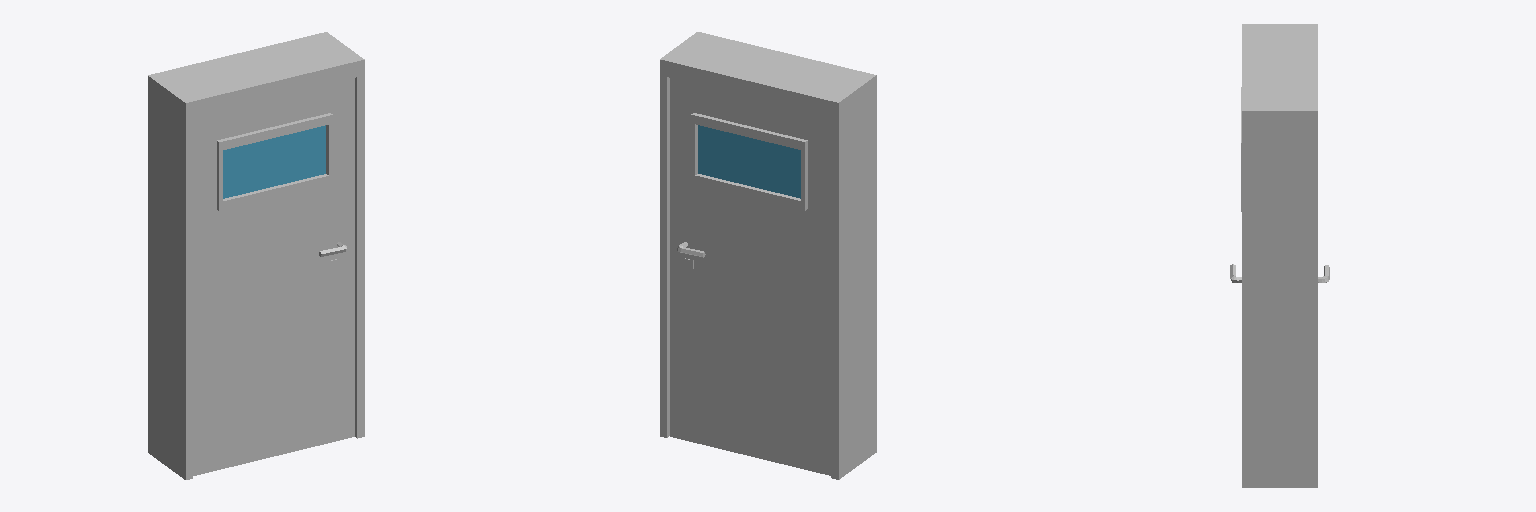
File: porta_terreo.obj
3 views of the same model, side by side, from view 1: azimuth 30°, elevation 25°; view 2: azimuth 150°, elevation 25°; view 3: azimuth 270°, elevation 25° (orthographic).
Parts seen in each view (by area): view 1: porta, batente; view 2: porta, batente; view 3: batente.
Part boxes in pixels (x1,y1,x2,y2): porta: (193, 78, 354, 475); batente: (148, 32, 364, 479); porta: (670, 78, 830, 475); batente: (660, 32, 876, 479); batente: (1242, 24, 1317, 487).
Bounding box in the file's own units: 2.18 × 4.38 × 1.05.